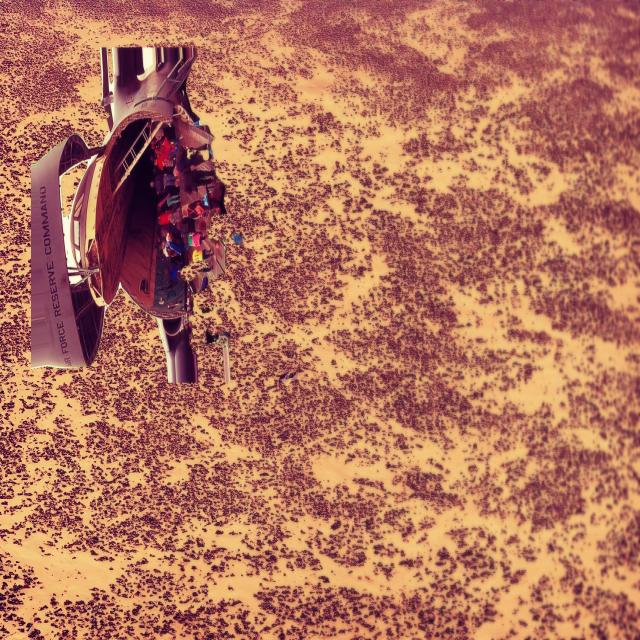airplane: (29, 40, 229, 386)
